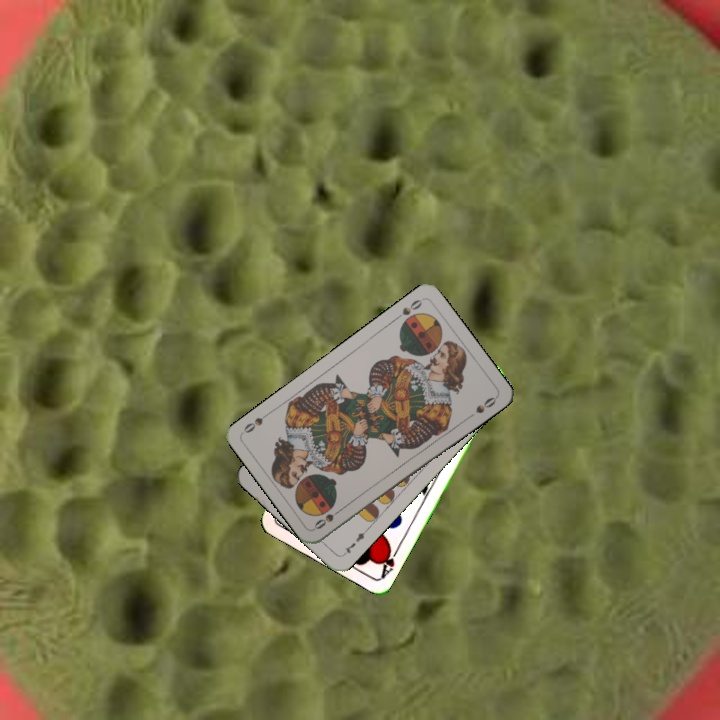E7: (339, 525, 370, 558)
HA: (376, 542, 402, 581)
SO: (310, 503, 346, 532), (390, 294, 426, 323)
